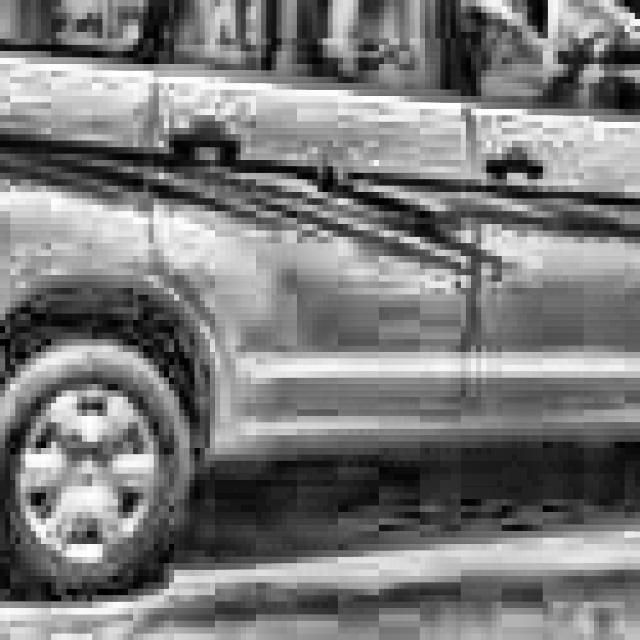light_vehicle: (0, 0, 640, 595)
